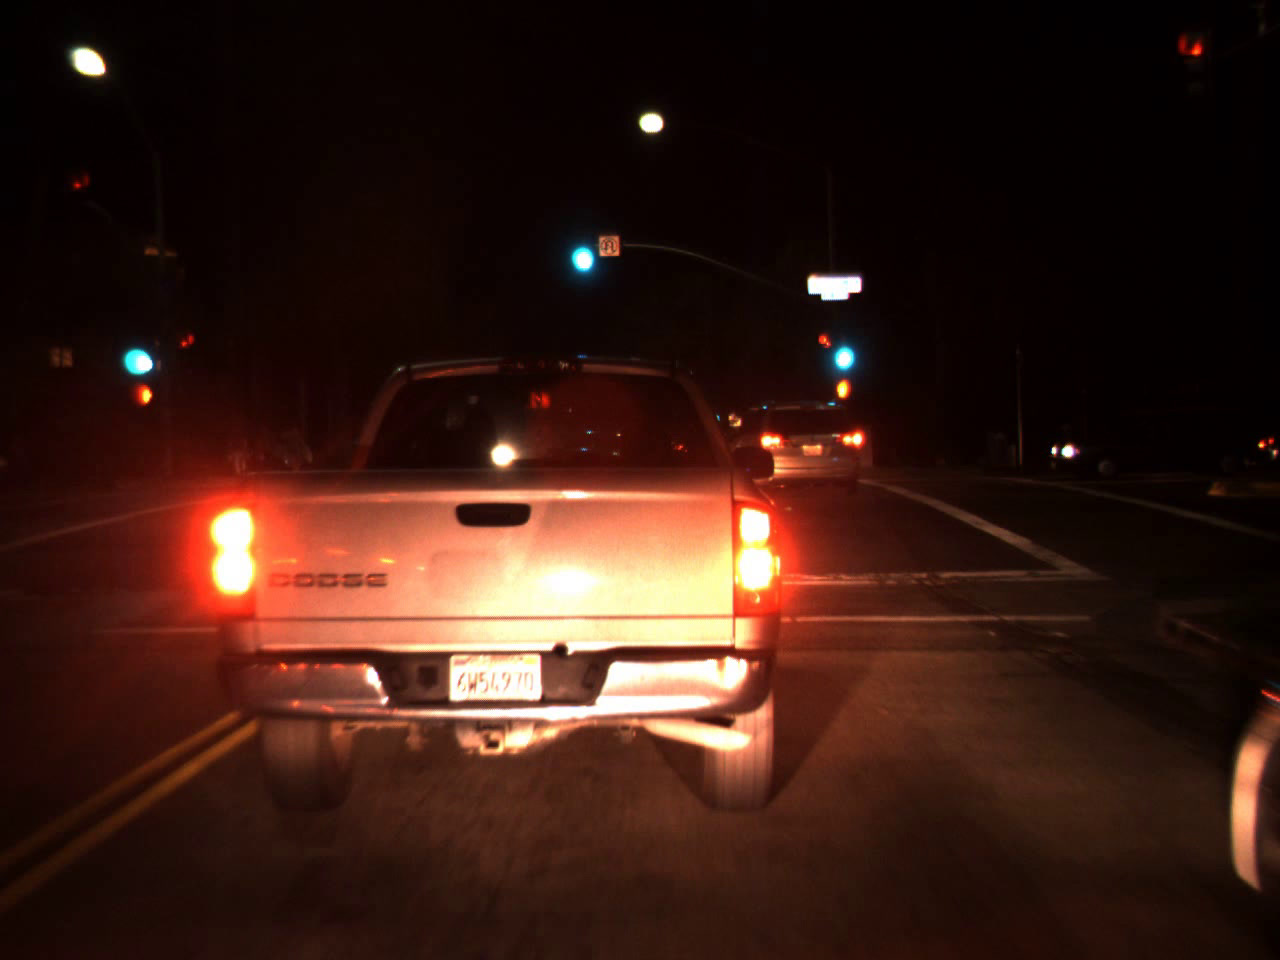go: (114, 314, 157, 386), (561, 213, 598, 282), (825, 316, 859, 379)
